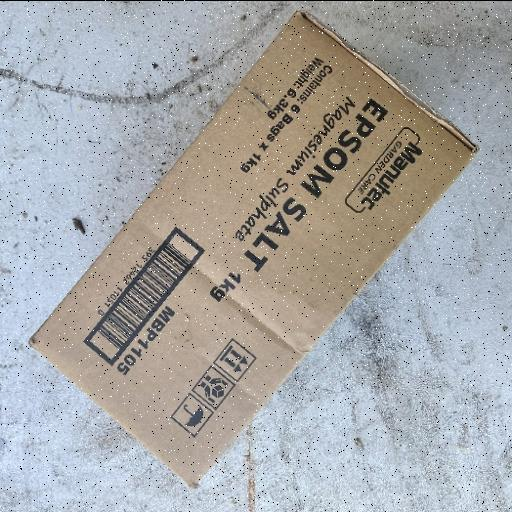Cardboard: (26, 9, 480, 489)
